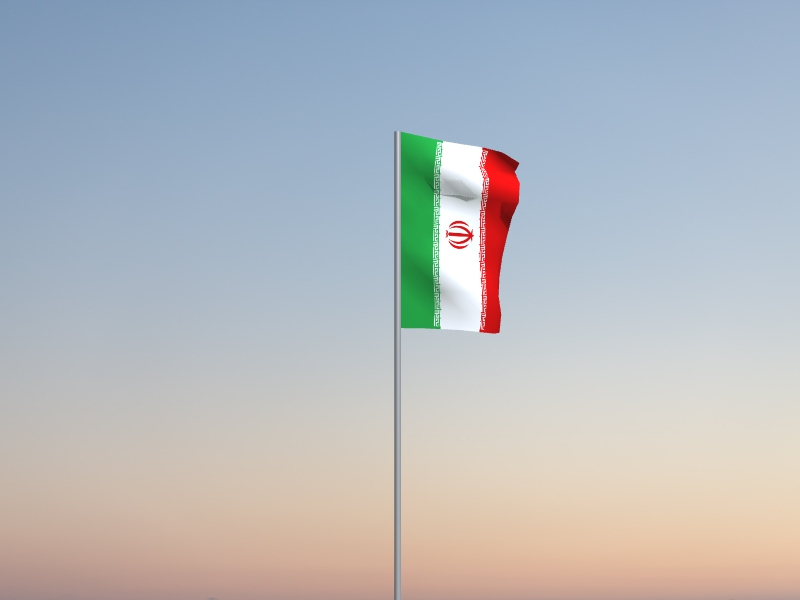ir: (401, 132, 521, 335)
